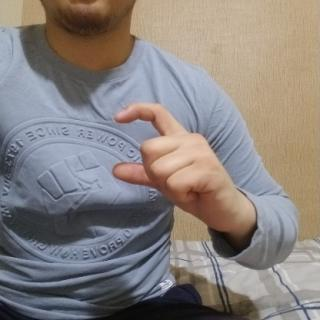DELL: (104, 98, 250, 246)
